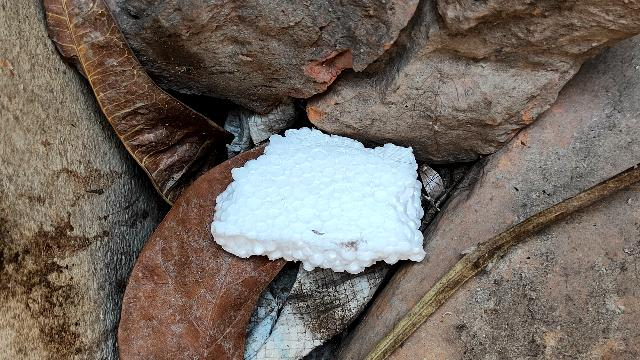cocksheet: (205, 119, 445, 272)
